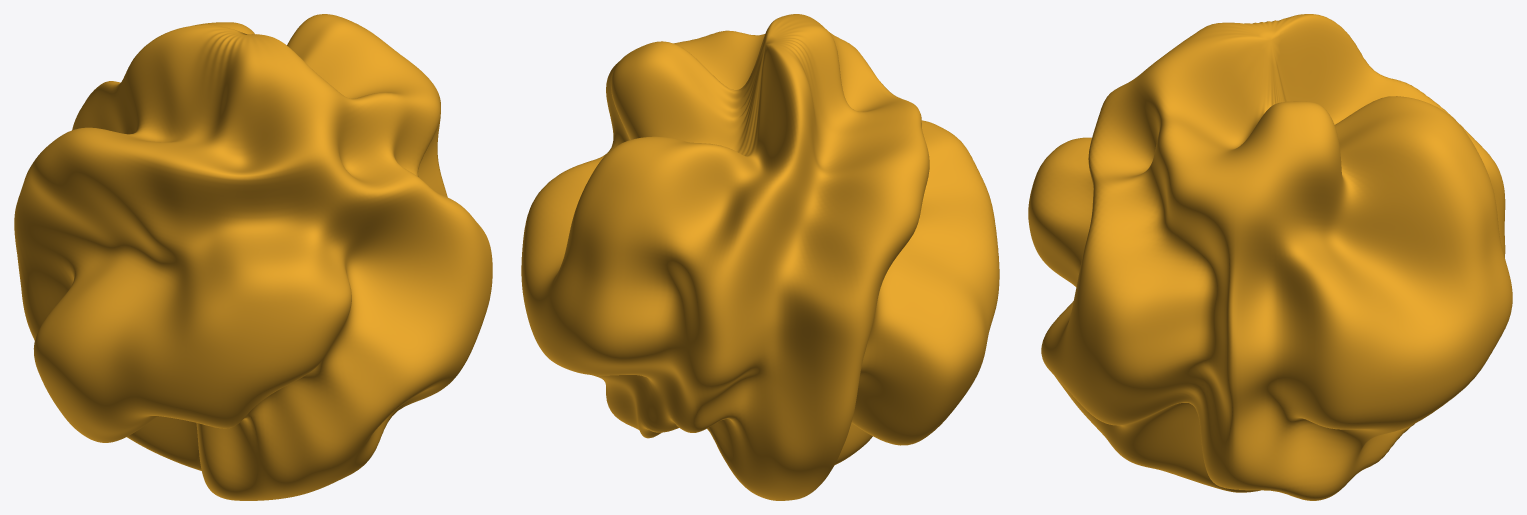
The picture shows the model from 3 angles, left to right: view 1: azimuth 30°, elevation 25°; view 2: azimuth 150°, elevation 25°; view 3: azimuth 270°, elevation 25°; orthographic projection. The views are drawn at different scales.
Visible parts, largest first — view 1: Sphere; view 2: Sphere; view 3: Sphere.
Boxes of the visible parts, <box> form: Sphere: <box>14,14,492,500</box>; Sphere: <box>521,14,999,500</box>; Sphere: <box>1028,14,1512,500</box>.
Size of the model in its own units: 2.63 by 2.75 by 2.63.
